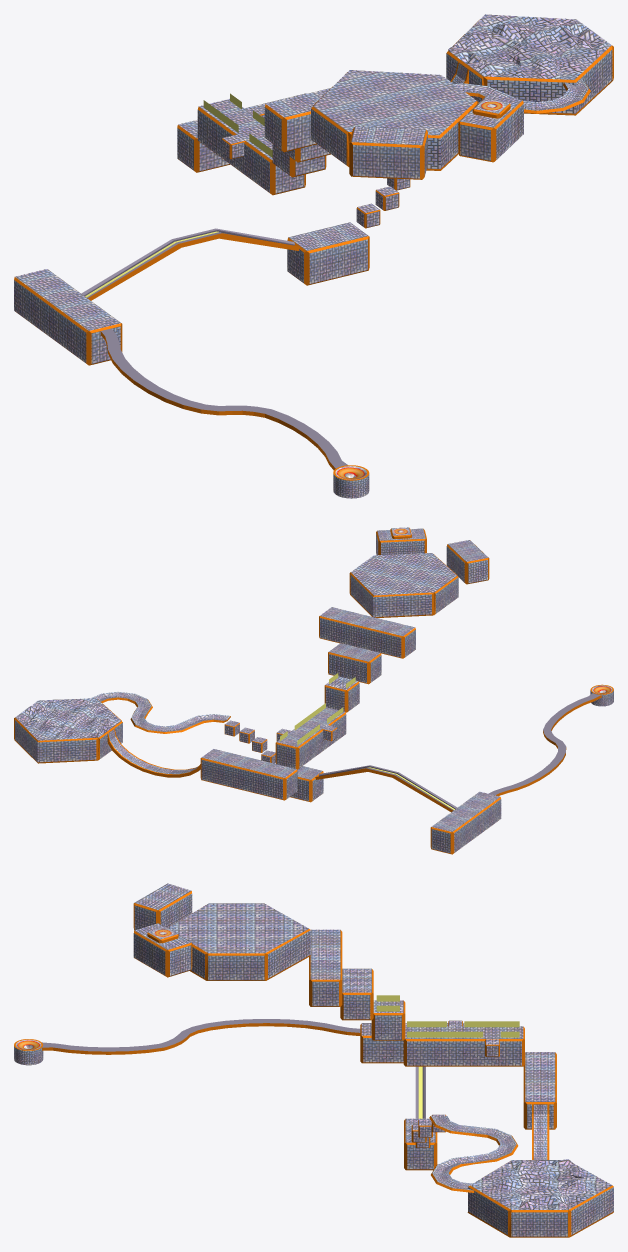
File: Level28.fbx
3 renders of one model, top to bottom at view 1: azimuth 30°, elevation 25°; view 2: azimuth 150°, elevation 25°; view 3: azimuth 270°, elevation 25°, orthographic. The views are drawn at different scales.
Parts seen in each view (by area): view 1: Level28; view 2: Level28; view 3: Level28.
Part boxes in pixels (x1,y1,x2,y2): Level28: (14, 14, 613, 498); Level28: (14, 527, 613, 854); Level28: (14, 883, 613, 1237).
Size of the model in its own units: 5748 by 2455 by 5918.
Materials: 12 (7 with a texture image).
